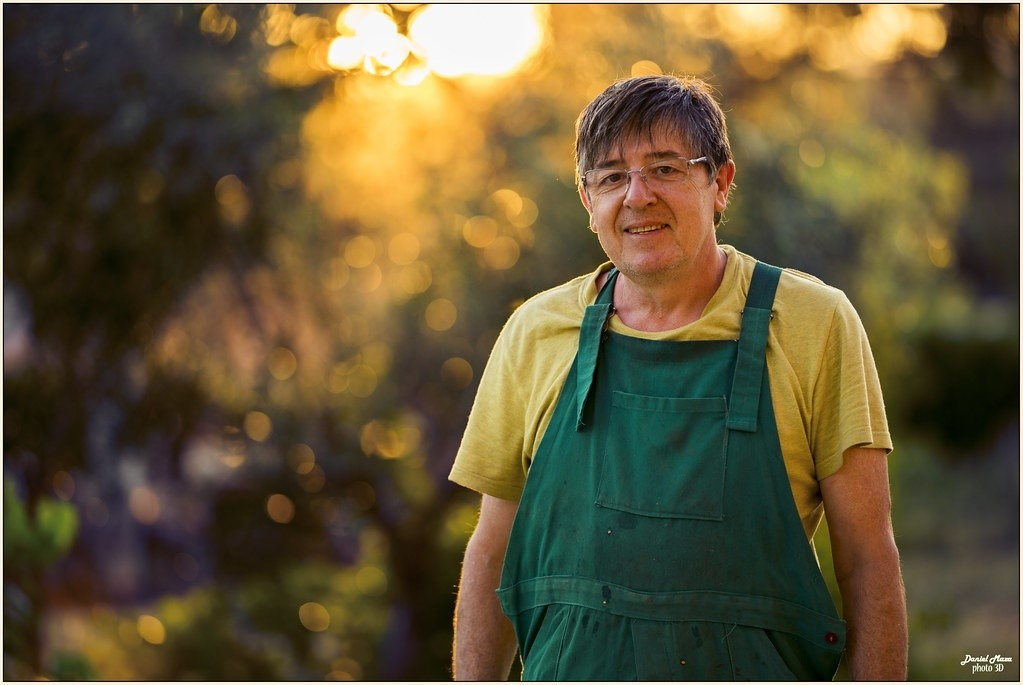face_no_mask: (577, 79, 738, 283)
